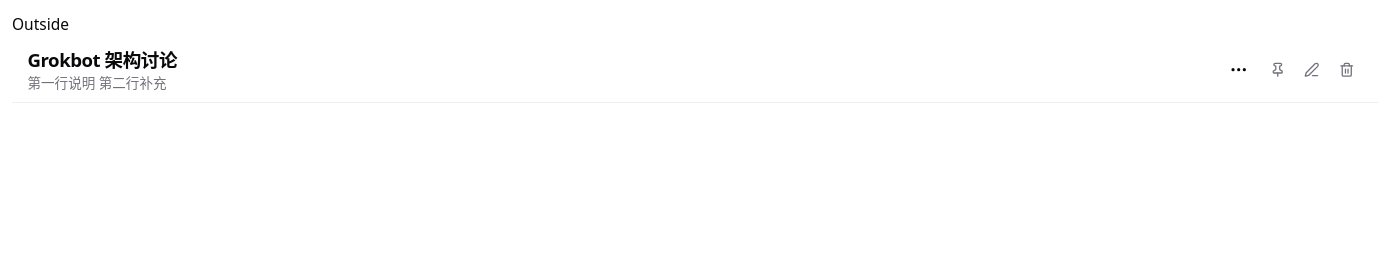
Test: TopicHeaderView (#89) › uses shadcn DropdownMenu for topic actions, closes on outside click/selection, and preserves desktop/sr-only action buttons
Click the button named "话题操作": (1239, 70) [1221, 52, 1256, 87]
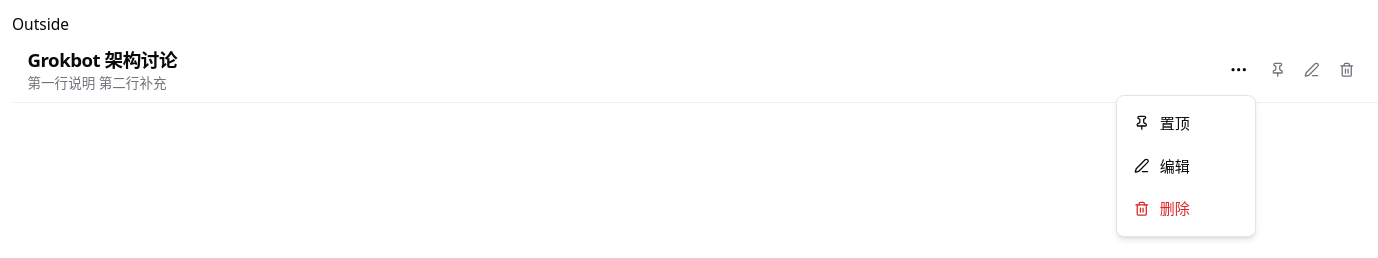
Now the menu item "置顶" is shown, box [1134, 113, 1190, 133]
Now the menu item "编辑" is shown, box [1134, 156, 1190, 176]
Click the text with test id "outside-area": (40, 24) [12, 13, 69, 35]
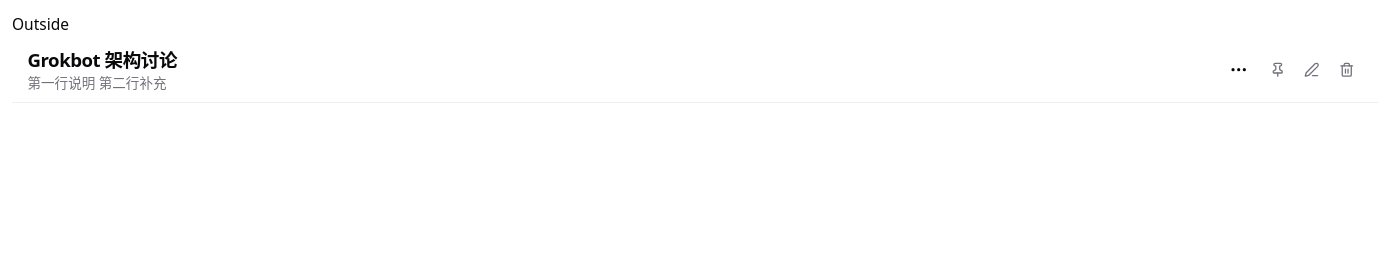
Now the menu "置顶 编辑 删除" is gone
Click the button named "话题操作": (1239, 70) [1221, 52, 1256, 87]
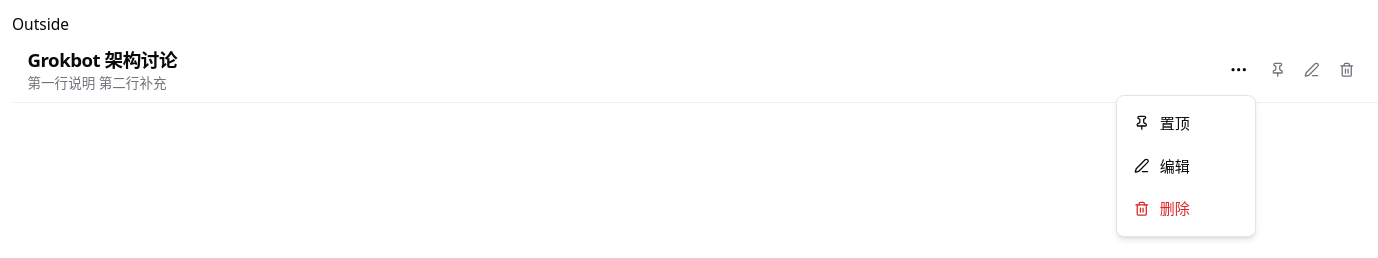
Click the menu item "编辑": (1162, 166) [1134, 156, 1190, 176]
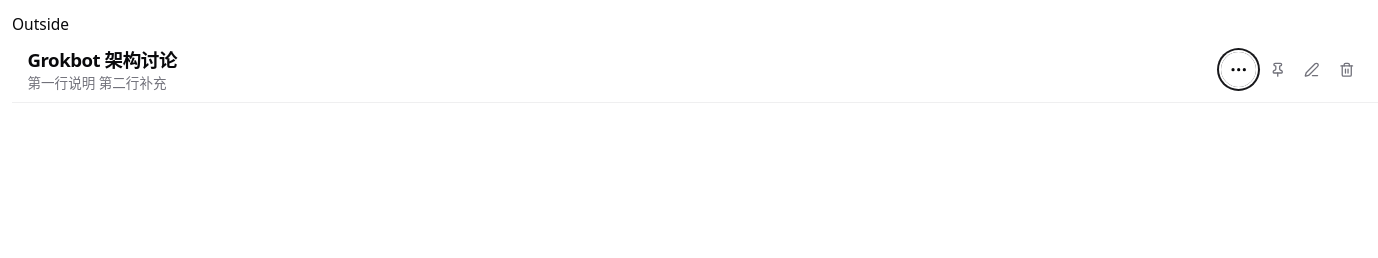
Expected: the button named "置顶" is shown, [1262, 54, 1293, 85]
Now the menu "置顶 编辑 删除" is gone
